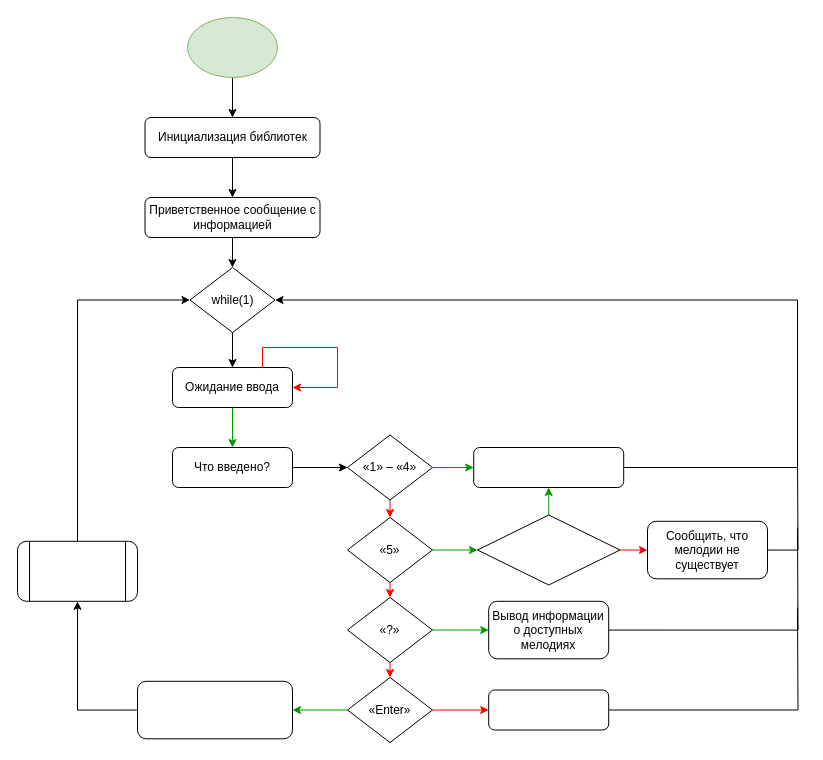
Some shapes in this 823 by 760 pixel diagram are drawn without their labels. The centre of each missing label's shape, as x and y in pixels:
Информация о режиме настройки мелодии пользователя: the point at 214,709
Мелодия пользователя существует?: the point at 548,549
Настройка мелодии: the point at 77,570
Начало: the point at 232,47
Ошибка ввода: the point at 548,709
Проигрывание сохраненных мелодий: the point at 548,467
